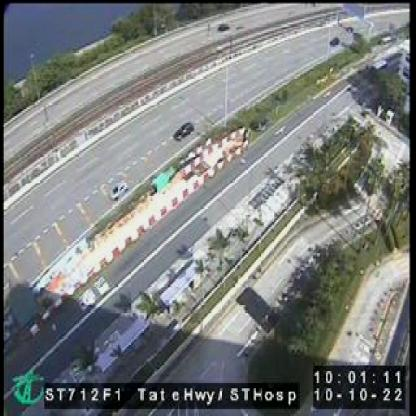Car: (109, 179, 128, 201), (177, 122, 195, 140)
